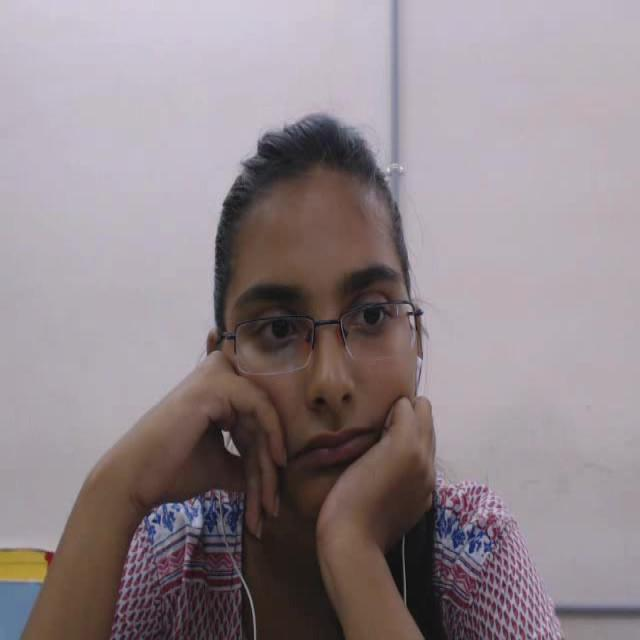Bored: (190, 105, 466, 538)
